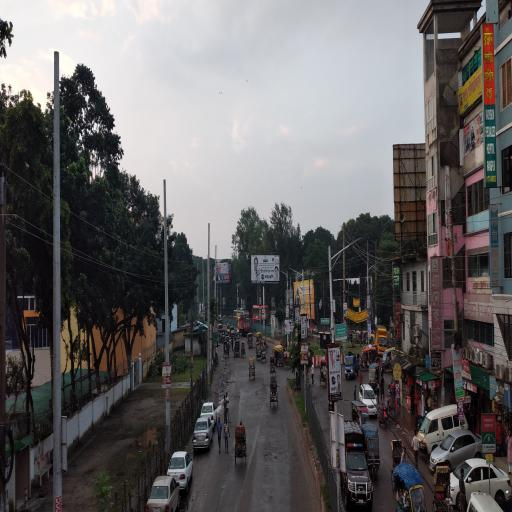army vehicle: (344, 423, 373, 512)
auto rickshaw: (395, 468, 427, 512), (363, 425, 381, 481), (352, 401, 370, 425), (360, 347, 377, 370), (370, 365, 381, 389), (273, 347, 285, 368), (383, 349, 393, 373), (248, 333, 254, 349), (236, 342, 241, 358), (256, 333, 263, 343), (231, 327, 236, 338), (222, 332, 226, 344)
bus: (254, 306, 270, 326), (234, 311, 250, 321)
car: (451, 460, 509, 504), (431, 433, 483, 463), (147, 475, 180, 512), (168, 451, 194, 494), (194, 417, 213, 452), (360, 385, 378, 417), (202, 403, 218, 429)
motorbike: (388, 405, 392, 425), (389, 383, 395, 396)
pickup: (345, 356, 360, 379)
rickshaw: (433, 465, 454, 512), (391, 440, 408, 491), (236, 427, 248, 466), (270, 380, 279, 408), (320, 360, 328, 389), (250, 359, 257, 380), (270, 356, 277, 377), (262, 346, 268, 364), (257, 344, 262, 362), (242, 342, 247, 359), (224, 342, 229, 358)
scooter: (380, 406, 388, 429)
truck: (376, 325, 389, 356), (238, 317, 251, 338)
van: (419, 406, 469, 455)
